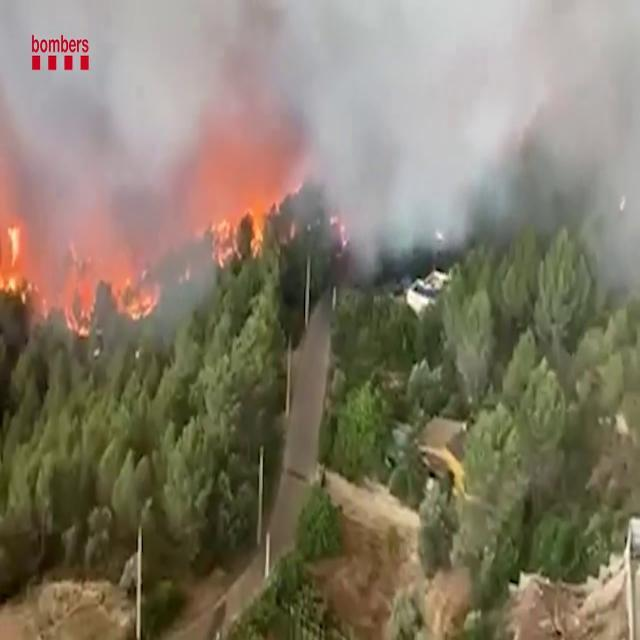Fire: (202, 167, 284, 273), (0, 198, 28, 304)
Smoke: (2, 0, 640, 257)
